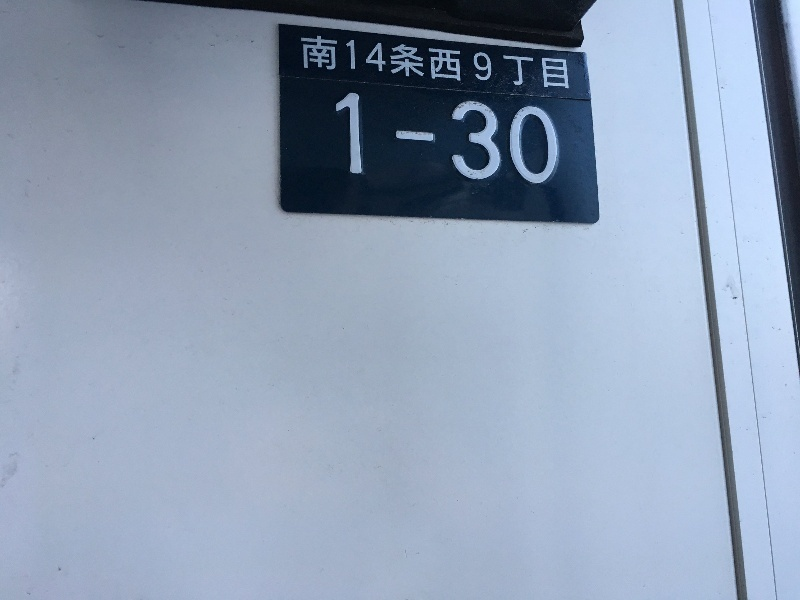text: (337, 93, 352, 184), (353, 93, 368, 184), (369, 93, 384, 184), (385, 93, 400, 184), (401, 93, 416, 184), (417, 93, 432, 184), (433, 93, 448, 184), (449, 93, 464, 184), (465, 93, 480, 184), (481, 93, 496, 184), (497, 93, 512, 184), (513, 93, 528, 184), (529, 93, 544, 184), (545, 93, 559, 184), (305, 35, 320, 90), (321, 35, 336, 90), (337, 35, 352, 90), (353, 35, 368, 90), (369, 35, 384, 90), (385, 35, 400, 90), (401, 35, 416, 90), (417, 35, 432, 90), (433, 35, 448, 90), (449, 35, 464, 90), (465, 35, 480, 90), (481, 35, 496, 90), (497, 35, 512, 90), (513, 35, 528, 90), (529, 35, 544, 90), (545, 35, 560, 90), (561, 35, 569, 90), (301, 35, 304, 90)
